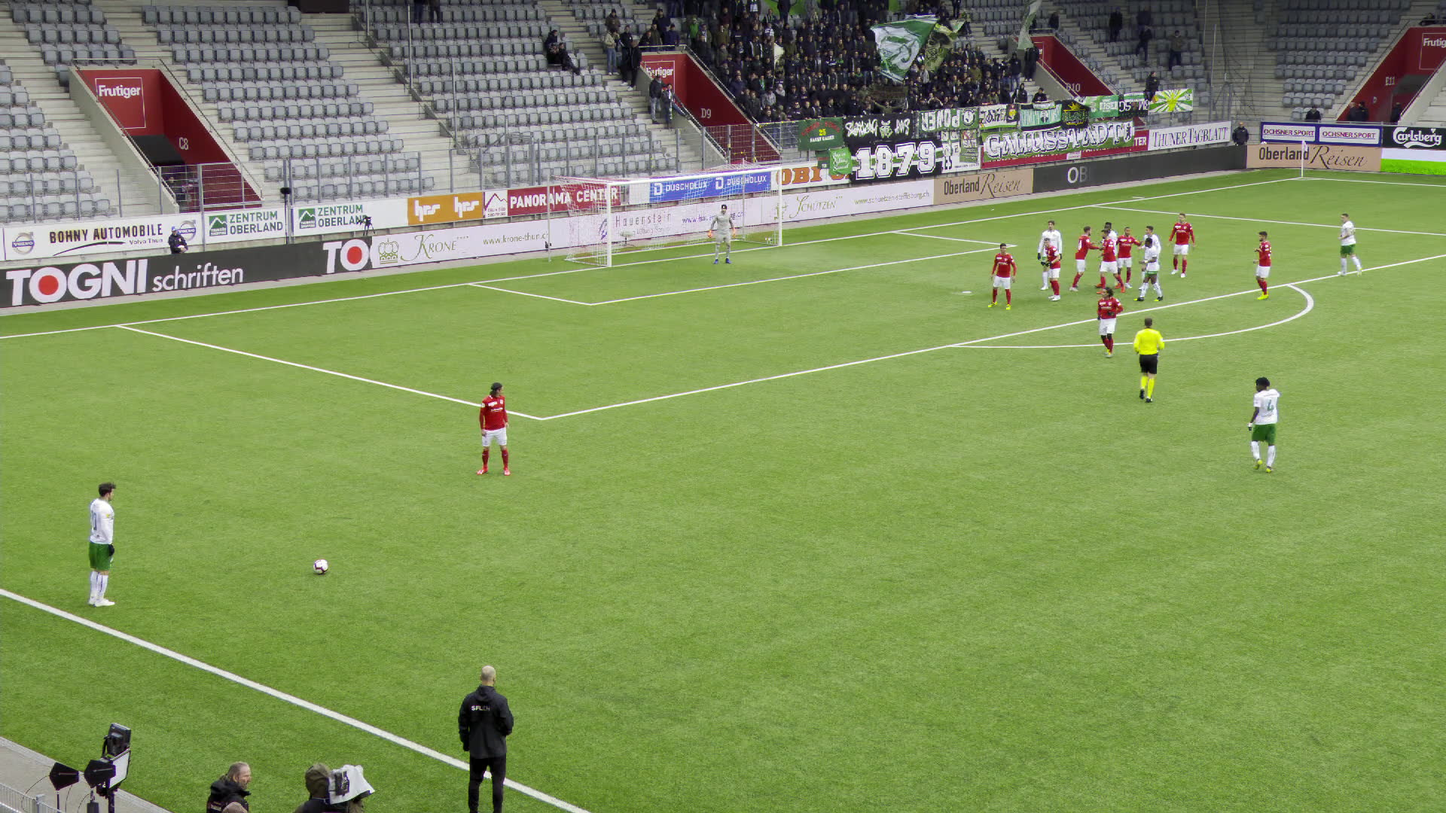ball: (311, 556, 330, 577)
player: (82, 480, 127, 608), (1243, 375, 1282, 475), (474, 380, 511, 477), (1132, 236, 1164, 304), (1069, 224, 1101, 292), (706, 202, 739, 266), (1094, 285, 1123, 357), (987, 242, 1017, 310), (1167, 211, 1196, 279), (1036, 220, 1063, 291), (1334, 212, 1363, 278), (1094, 220, 1121, 288), (1249, 230, 1274, 302), (1114, 225, 1142, 288), (1136, 224, 1162, 291), (1098, 226, 1121, 294), (1041, 236, 1064, 302)
referee: (1131, 317, 1164, 405)
